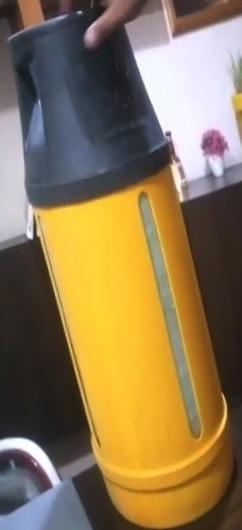cylinder: (1, 1, 242, 530)
